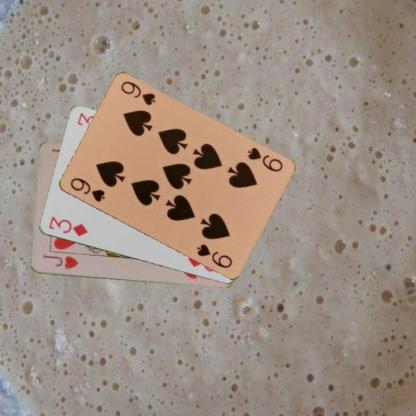3d: (46, 214, 89, 238)
9s: (244, 144, 284, 173), (67, 175, 106, 203)
Jh: (40, 252, 79, 270)
